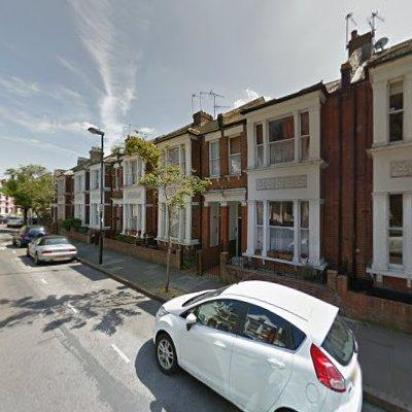stationary-car-onstreet: (153, 278, 366, 412), (26, 234, 76, 266), (13, 224, 47, 248), (6, 213, 22, 228)
